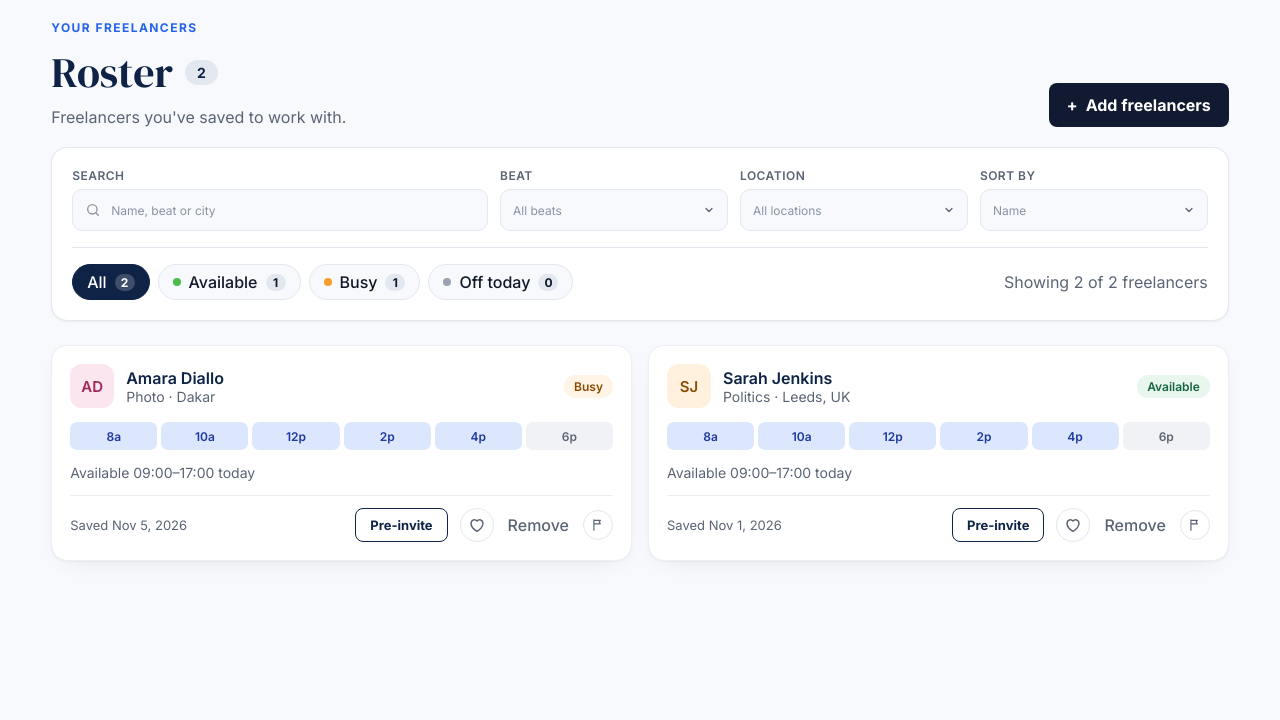
Test: RosterBrowser › saves people who are off today too, straight onto the roster
The width and height of the screenshot is (1280, 720).
Step 1. Click the button "+ Add freelancers" → (1139, 105), box x1=1049 y1=83 x2=1229 y2=127
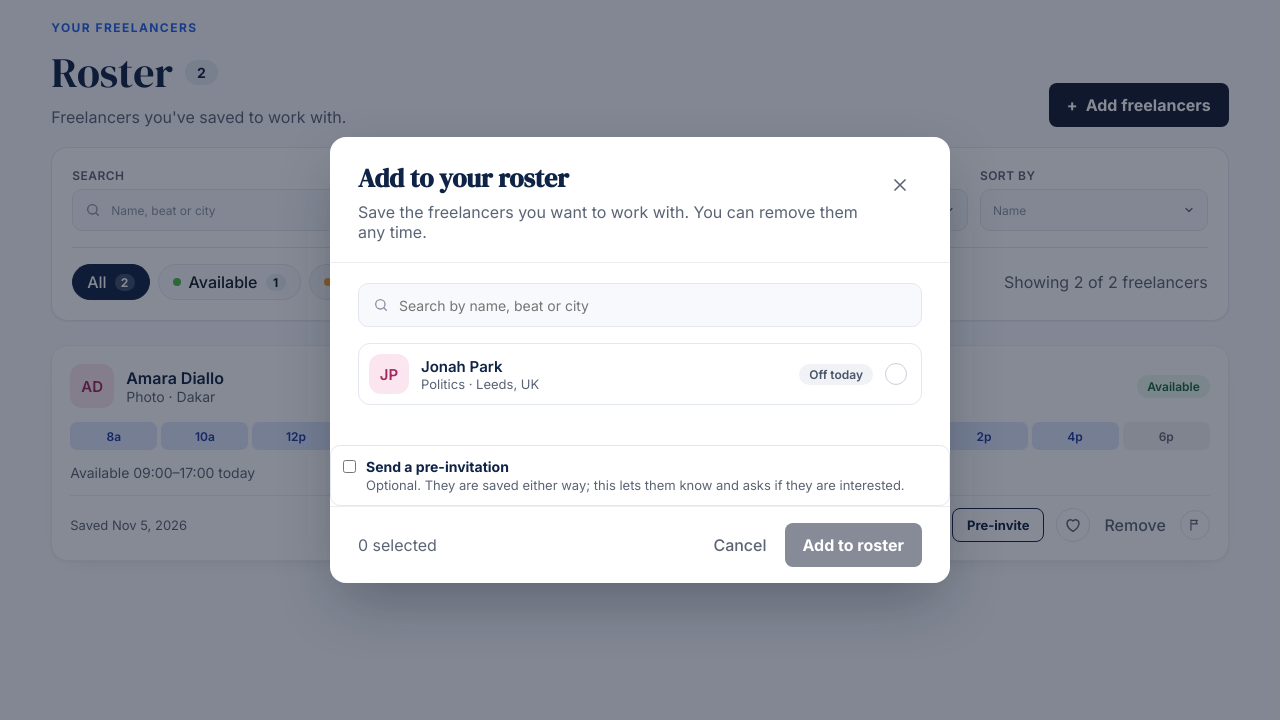
Step 2. Click the checkbox labelled "JP Jonah Park Politics · Leeds, UK Off today" → (389, 374), box x1=358 y1=343 x2=922 y2=405
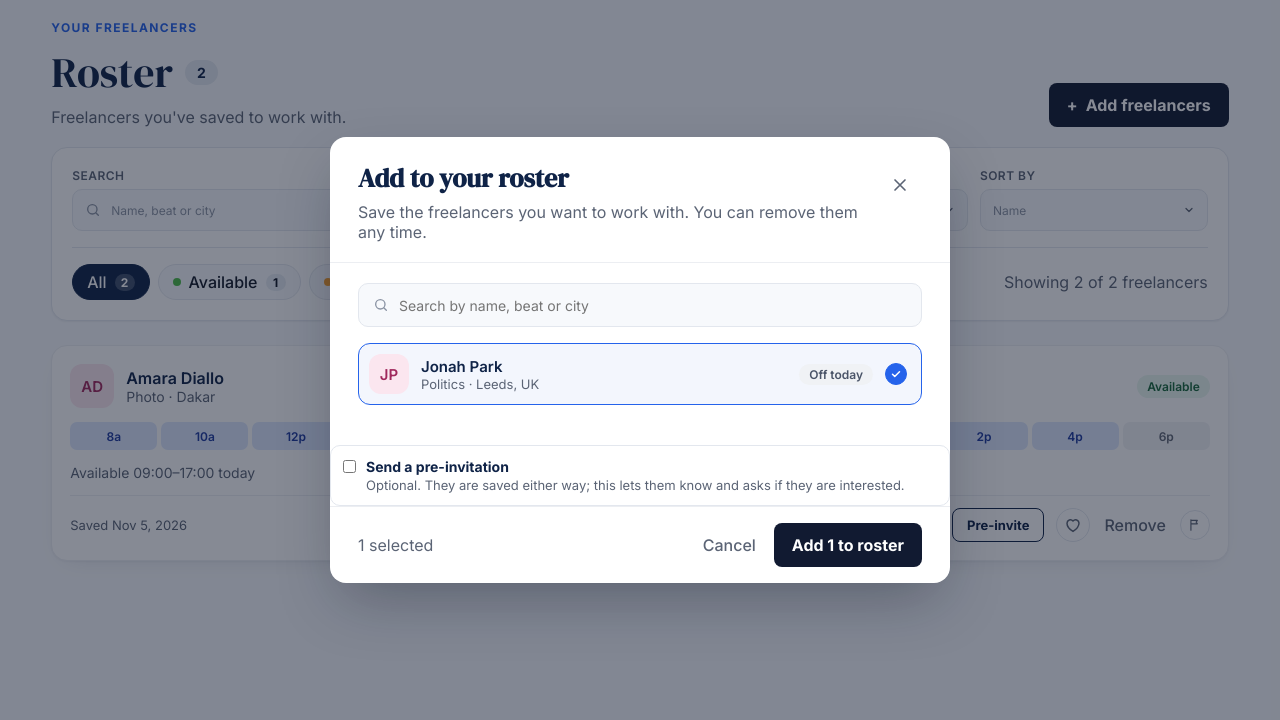
Result: the text "1 selected" is shown at x1=358 y1=535 x2=433 y2=555
Step 3. Click the button "Add 1 to roster" → (848, 545), box x1=774 y1=523 x2=922 y2=567
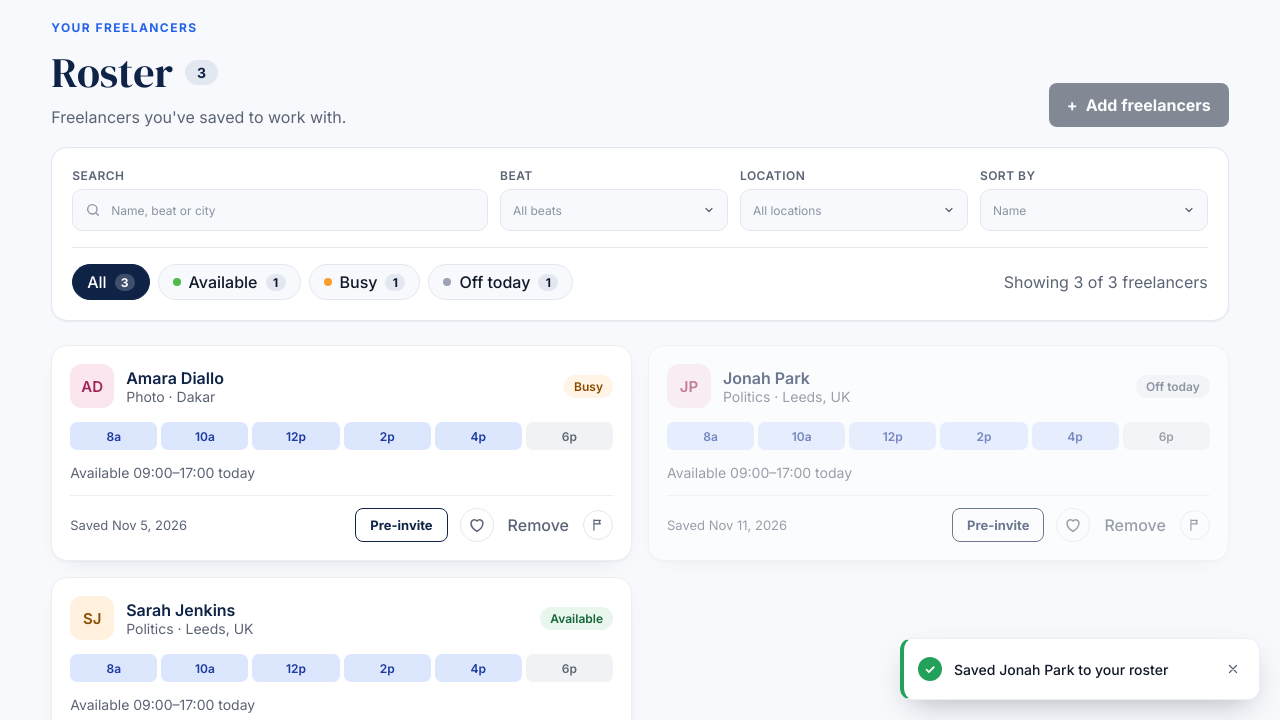
Result: the text "Saved Jonah Park to your roster" is shown at x1=954 y1=660 x2=1203 y2=678
Result: the dialog is gone
Result: the button "+ Add freelancers" is disabled at x1=1049 y1=83 x2=1229 y2=127
